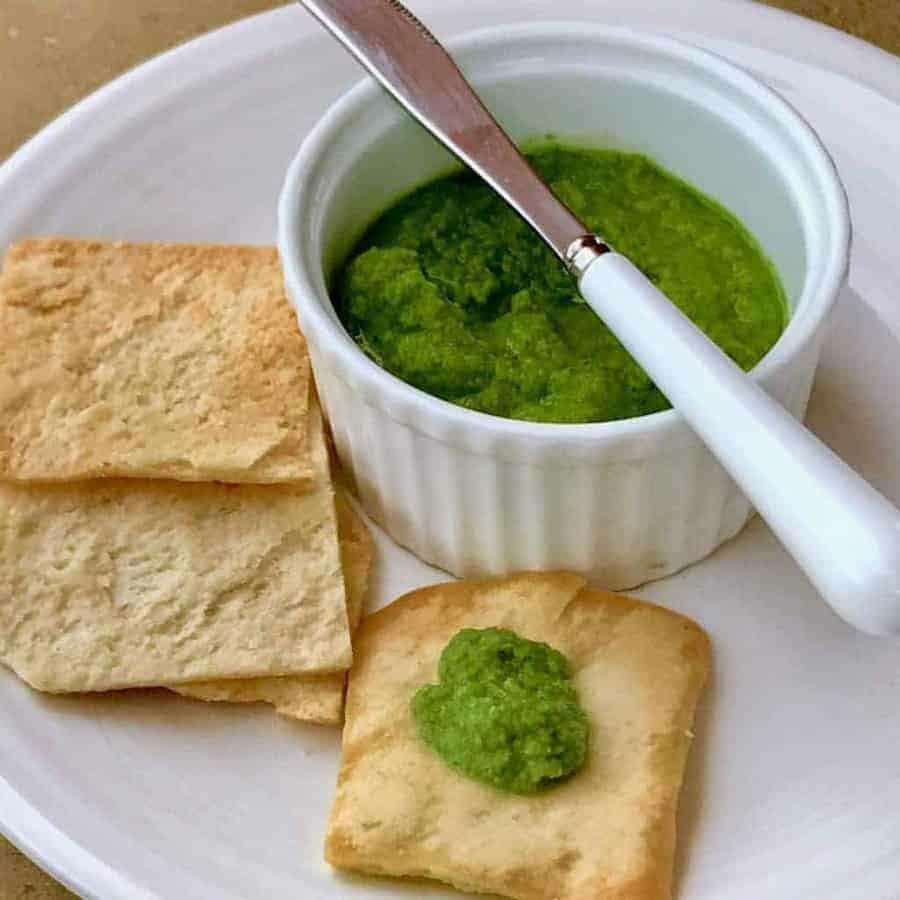GreenChutney: (336, 141, 786, 421), (406, 624, 590, 792)
